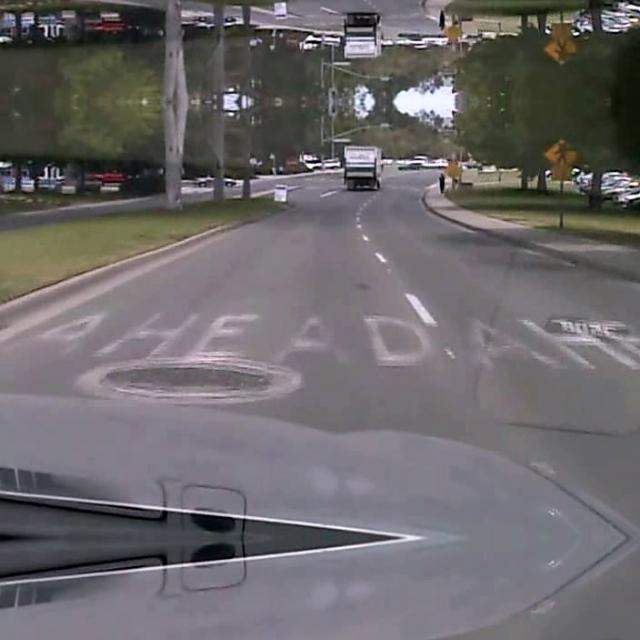pedestrianCrossing: (542, 136, 578, 166), (542, 36, 578, 66)
